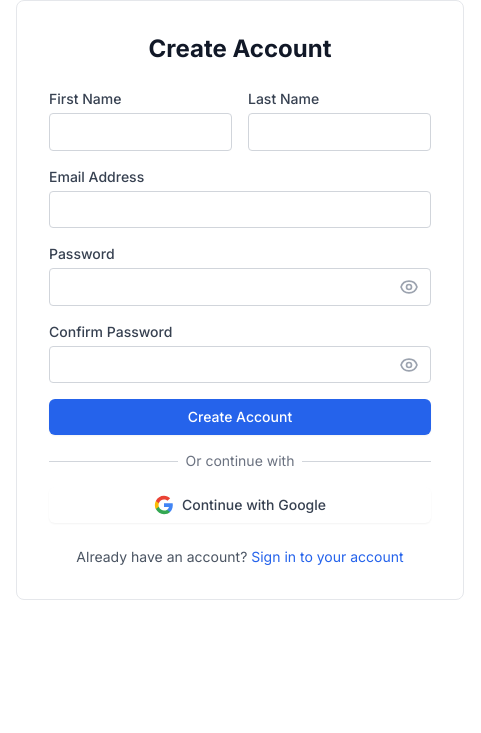
Test: RegistrationForm › should validate password requirements
Enter weak password
Type "weak" into the password field labelled "Password" at coordinates (240, 287), box [49,268,431,306]
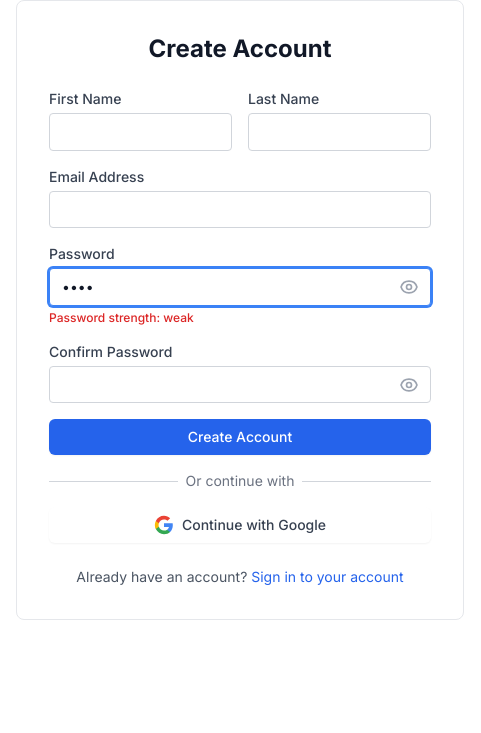
Click the button "Create Account" at coordinates (240, 437), box [49,419,431,455]
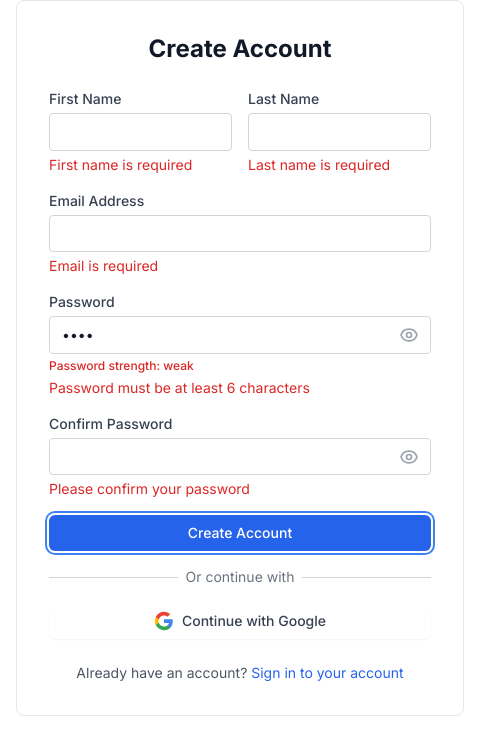
Check: the text "Password must be at least 6 characters" is shown, box [49,379,310,396]
